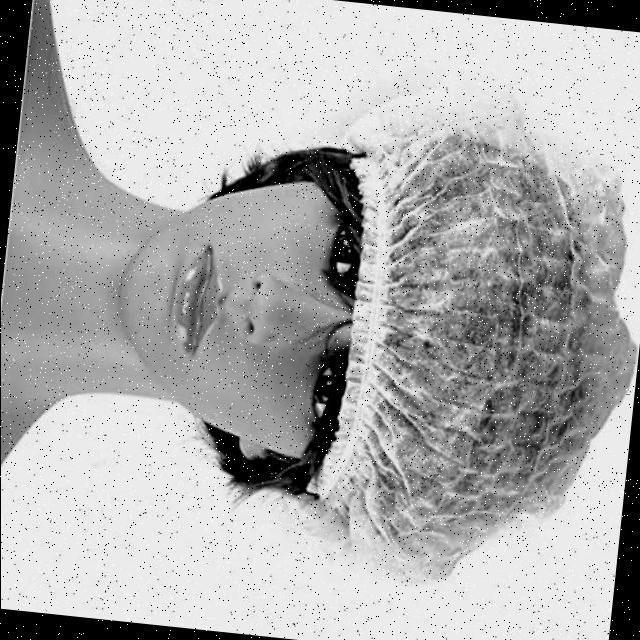gloves: (329, 73, 636, 556)
no_hairnet: (156, 232, 298, 404)
